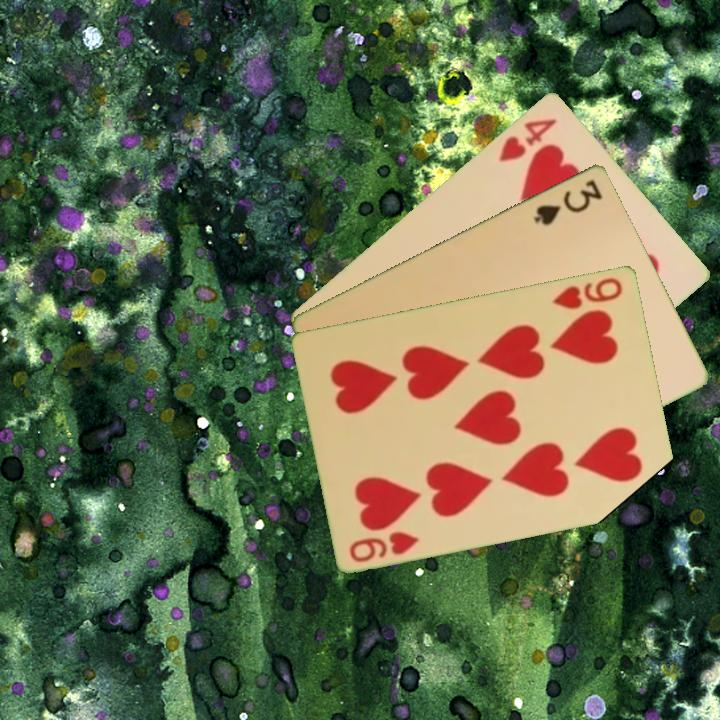3s: (530, 175, 606, 228)
4h: (495, 114, 560, 164)
9h: (548, 273, 626, 312), (346, 527, 422, 565)
